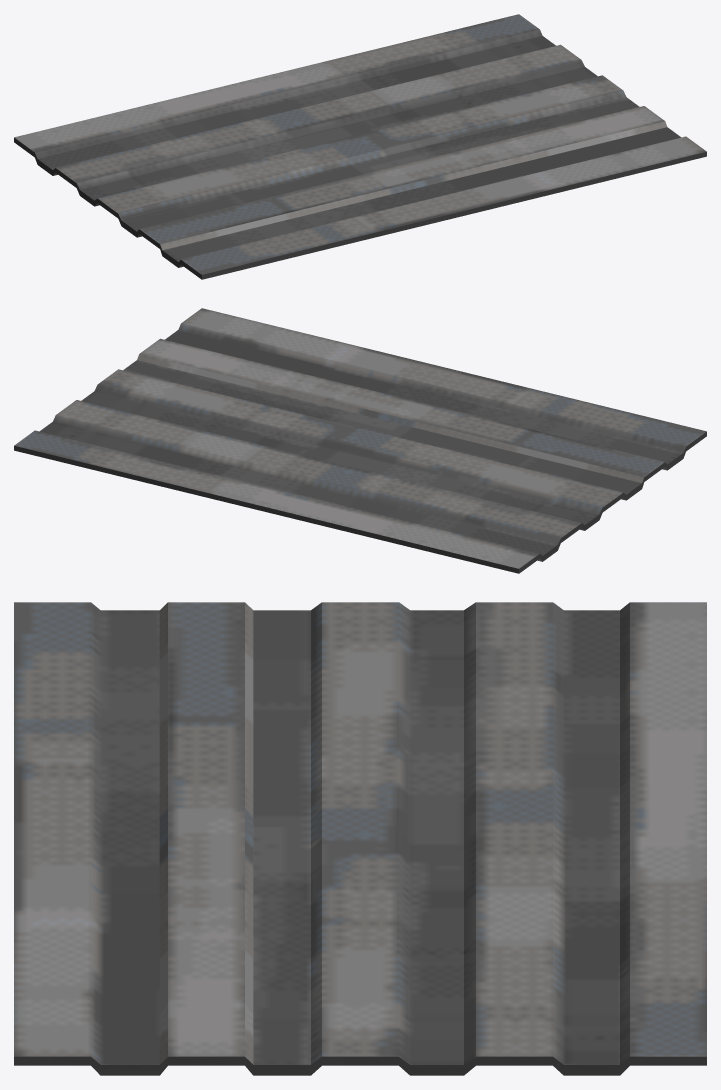
The model's file is sheet.fbx.
3 views of the same model, one above another, from view 1: azimuth 30°, elevation 25°; view 2: azimuth 150°, elevation 25°; view 3: azimuth 270°, elevation 25° (orthographic). The views are drawn at different scales.
Visible parts, largest first — view 1: Cube; view 2: Cube; view 3: Cube.
Boxes of the visible parts, box(x1,y1,x2,y2) form: Cube: box(14, 14, 706, 279); Cube: box(14, 308, 706, 573); Cube: box(14, 602, 706, 1075).
Size of the model in its own units: 352 by 6.87 by 227.
